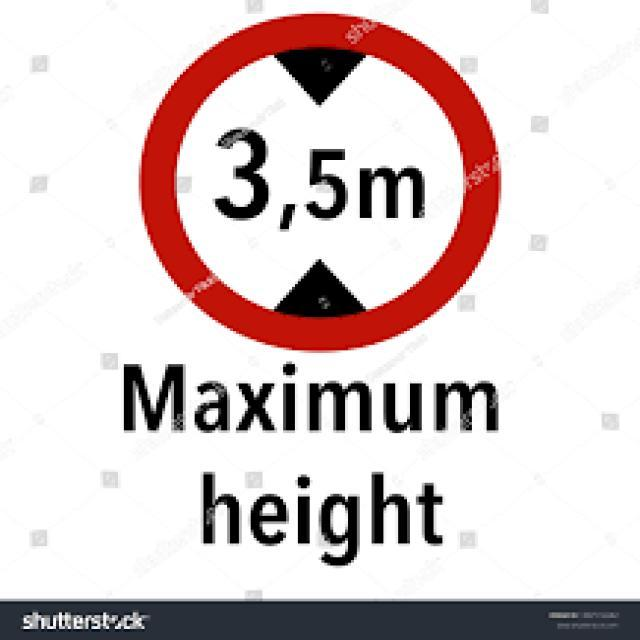height limit: (140, 12, 505, 353)
